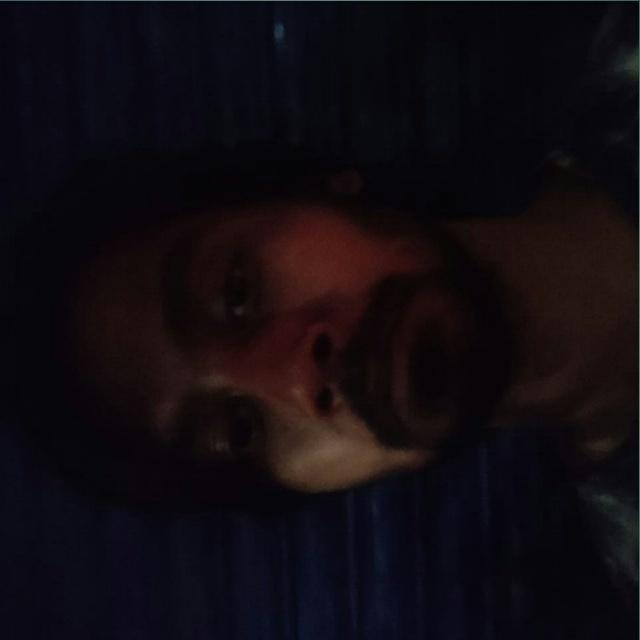Sad: (112, 125, 579, 613)
